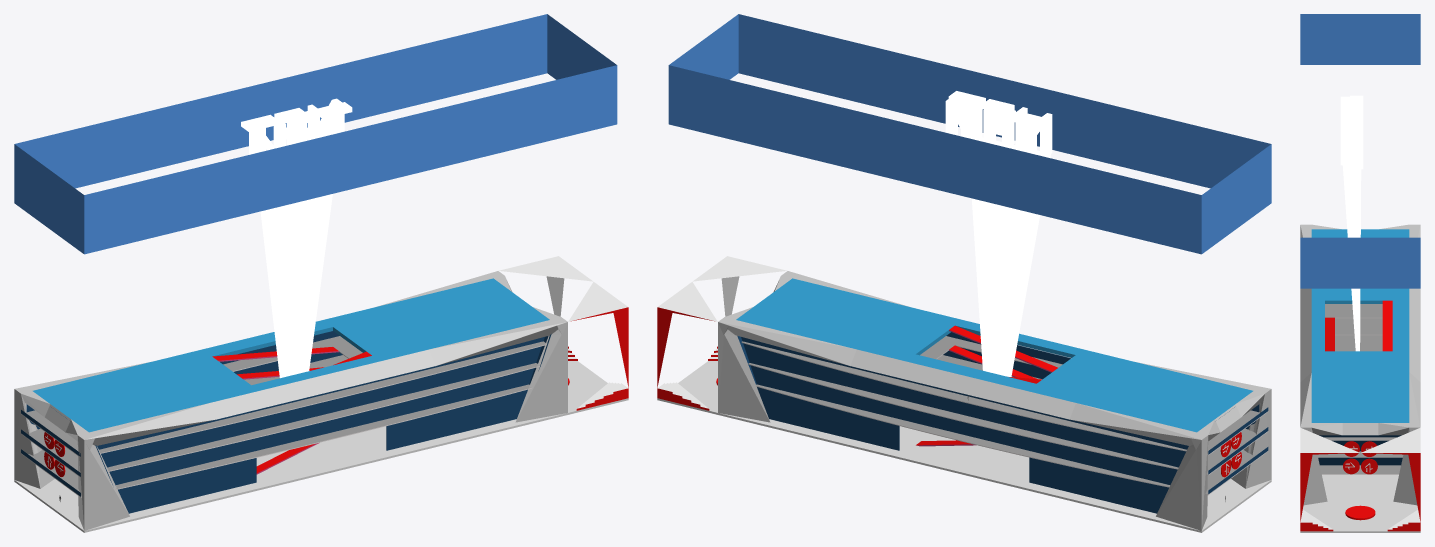
File: building.glb
3 views of the same model, side by side, from view 1: azimuth 30°, elevation 25°; view 2: azimuth 150°, elevation 25°; view 3: azimuth 270°, elevation 25° (orthographic). The views are drawn at different scales.
Parts seen in each view (by area): view 1: VisualSceneNode1.038, VisualSceneNode1.039, VisualSceneNode1.018, VisualSceneNode1.014, VisualSceneNode1.013, VisualSceneNode1.016, VisualSceneNode1.051, VisualSceneNode1.050, VisualSceneNode1.019, VisualSceneNode1.037, VisualSceneNode1.053, VisualSceneNode1.020 (+15 smaller); view 2: VisualSceneNode1.039, VisualSceneNode1.038, VisualSceneNode1.018, VisualSceneNode1.010, VisualSceneNode1.017, VisualSceneNode1.014, VisualSceneNode1.043, VisualSceneNode1.042, VisualSceneNode1.037, VisualSceneNode1.055, VisualSceneNode1.019, VisualSceneNode1.066 (+15 smaller); view 3: VisualSceneNode1.018, VisualSceneNode1.040, VisualSceneNode1.037, VisualSceneNode1.050, VisualSceneNode1.042, VisualSceneNode1.014, VisualSceneNode1.080, VisualSceneNode1.079, VisualSceneNode1.021, VisualSceneNode1.020, VisualSceneNode1.053, VisualSceneNode1.055 (+19 smaller).
Boxes of the visible parts, x1,y1,x2,y2 form: VisualSceneNode1.038: (84,65,617,254); VisualSceneNode1.039: (15,14,547,188); VisualSceneNode1.018: (33,278,549,432); VisualSceneNode1.014: (260,194,332,378); VisualSceneNode1.013: (386,337,544,450); VisualSceneNode1.016: (97,410,256,513); VisualSceneNode1.051: (65,403,216,530); VisualSceneNode1.050: (429,307,567,422); VisualSceneNode1.019: (21,336,546,457); VisualSceneNode1.037: (14,144,84,253); VisualSceneNode1.053: (210,349,435,419); VisualSceneNode1.020: (21,355,539,477); VisualSceneNode1.039: (668,65,1201,254); VisualSceneNode1.038: (738,14,1270,188); VisualSceneNode1.018: (736,278,1252,432); VisualSceneNode1.010: (741,337,899,450); VisualSceneNode1.017: (1029,410,1188,513); VisualSceneNode1.014: (971,137,1050,376); VisualSceneNode1.043: (1069,403,1220,530); VisualSceneNode1.042: (718,307,856,422); VisualSceneNode1.037: (1201,144,1271,253); VisualSceneNode1.055: (850,349,1075,419); VisualSceneNode1.019: (741,336,1268,455); VisualSceneNode1.066: (899,378,1029,450); VisualSceneNode1.018: (1311,229,1409,422); VisualSceneNode1.040: (1300,237,1420,288); VisualSceneNode1.037: (1300,14,1420,64); VisualSceneNode1.050: (1300,372,1342,505); VisualSceneNode1.042: (1378,372,1420,505); VisualSceneNode1.014: (1342,165,1361,351); VisualSceneNode1.080: (1361,427,1420,522); VisualSceneNode1.079: (1300,427,1359,521); VisualSceneNode1.021: (1320,335,1400,474); VisualSceneNode1.020: (1317,318,1403,457); VisualSceneNode1.053: (1300,288,1311,381); VisualSceneNode1.055: (1409,288,1420,381).
Bounding box in the file's own units: 144 × 85.42 × 32.07.
